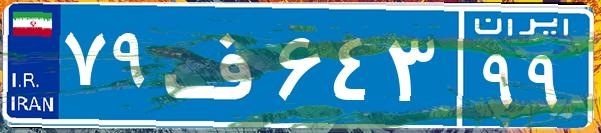3: (385, 28, 445, 110)
4: (330, 28, 385, 110)
6: (273, 28, 330, 110)
7: (57, 26, 110, 107)
9: (475, 38, 525, 113), (110, 28, 158, 105), (525, 38, 570, 115)
ف: (158, 15, 273, 115)
